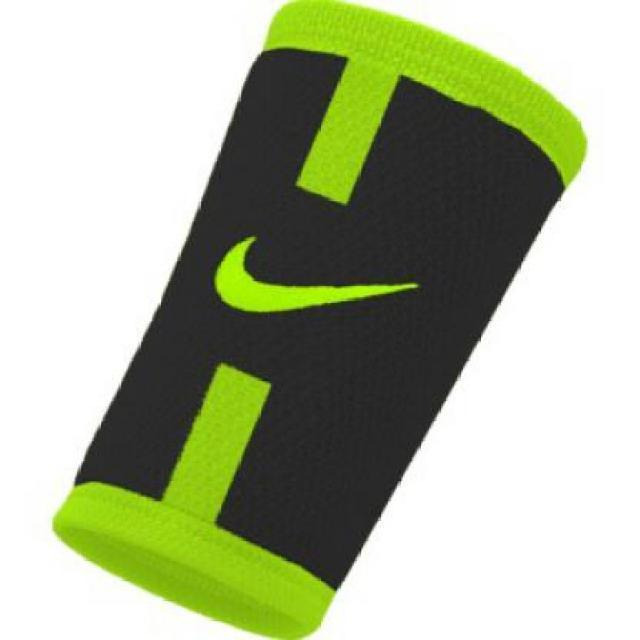Nike: (208, 228, 429, 319)
